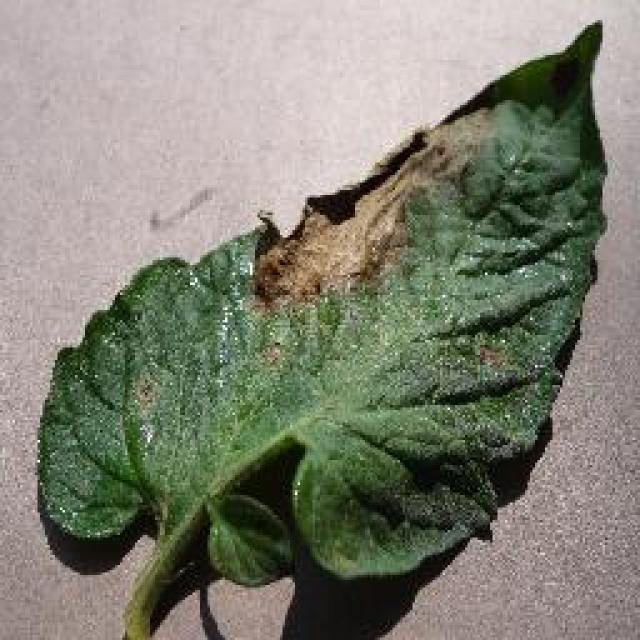Tomato___Late_blight: (32, 18, 610, 638)
